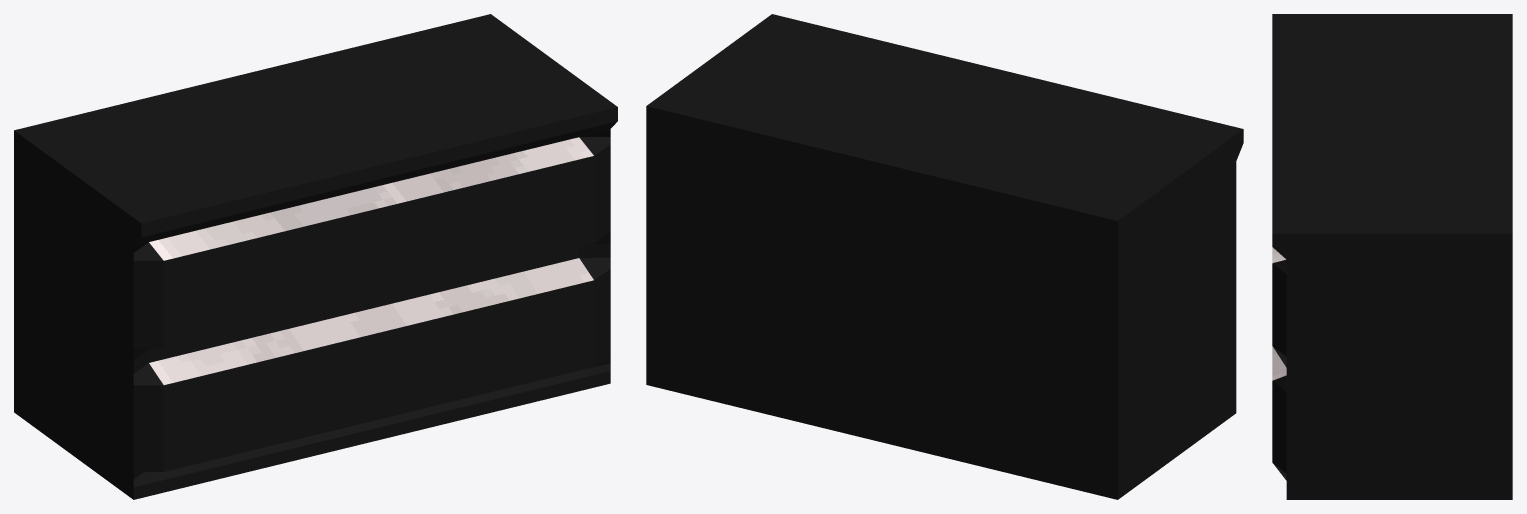
The model's file is Dresser.glb.
The picture shows the model from 3 angles, left to right: view 1: azimuth 30°, elevation 25°; view 2: azimuth 150°, elevation 25°; view 3: azimuth 270°, elevation 25°; orthographic projection. The views are drawn at different scales.
Parts seen in each view (by area): view 1: Dresser; view 2: Dresser; view 3: Dresser.
Part boxes in pixels (box(x1,y1,x2,y2)): Dresser: box(14, 14, 617, 499); Dresser: box(646, 14, 1243, 499); Dresser: box(1272, 14, 1512, 499).
Bounding box in the file's own units: 2.3 × 1.3 × 1.06.
Materials: 1 (1 with a texture image).
